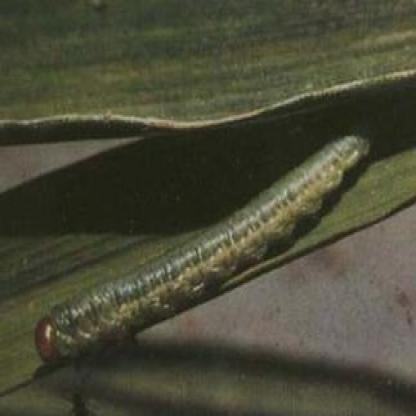sawfly: (31, 126, 374, 376)
